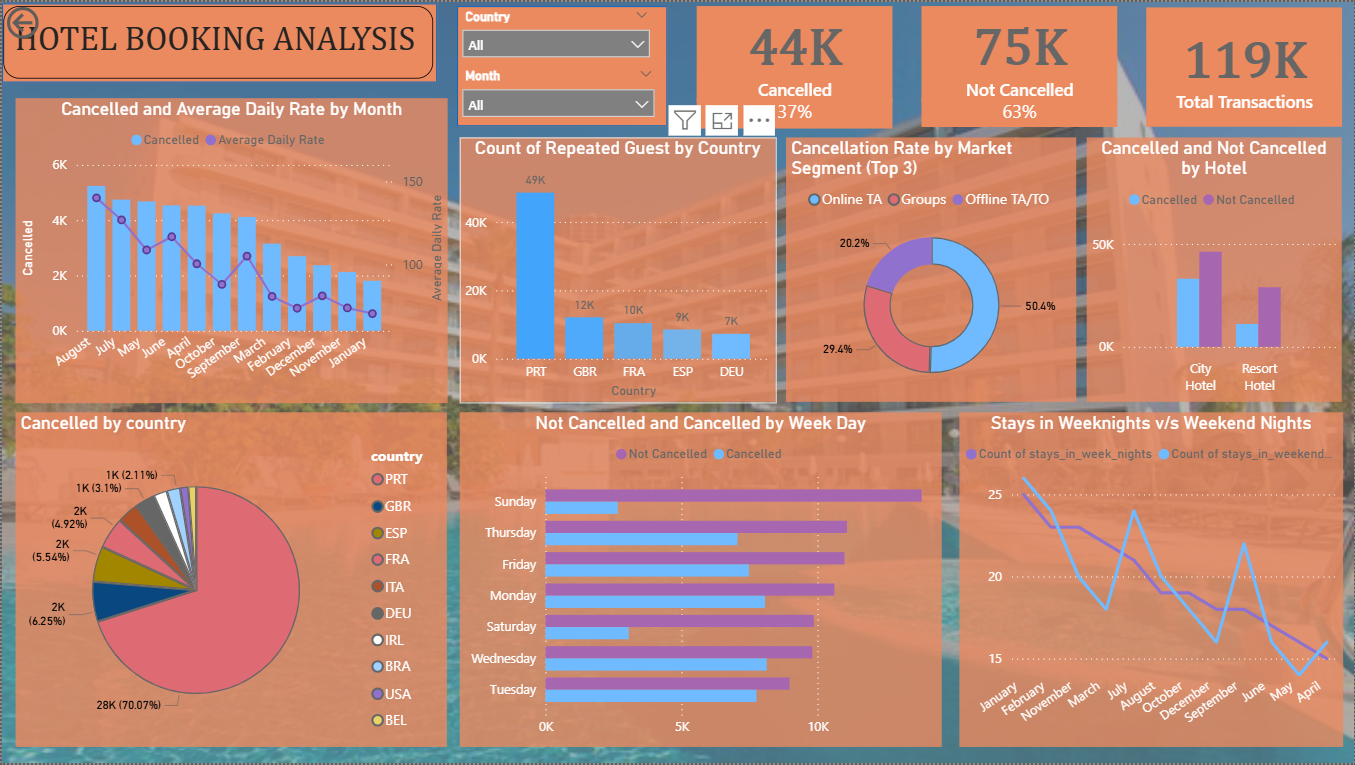

Layout of this report page (visuals, bound fields, positions):
{"tool":"powerbi","page":{"name":"Page 1","canvas":[1280,720],"ordinal":0},"visuals":[{"type":"shape","box":[0,1.4,412,75],"z":0},{"type":"textbox","box":[1.4,4.3,407.1,68.6],"z":1000},{"type":"shape","box":[430.9,4.1,199.2,113.8],"z":2000},{"type":"slicer","fields":{"Values":["hotel_booking.country"]},"box":[425.4,1.4,197.8,58.3],"z":3000},{"type":"slicer","fields":{"Values":["hotel_booking.arrival_date_month"]},"box":[425.4,58.3,201.9,55.5],"z":4000},{"type":"card","fields":{"Values":["All Measures.Cancelled"]},"box":[657.2,4.3,185.7,91.4],"z":5000},{"type":"card","fields":{"Values":["All Measures.Not Cancelled"]},"box":[870,4.3,185.7,91.4],"z":6000},{"type":"card","fields":{"Values":["All Measures.Total Transactions"]},"box":[1082.9,5.7,185.7,112.9],"z":7000},{"type":"card","fields":{"Values":["All Measures.% Cancelled"]},"box":[657.1,90.8,185.6,28.5],"z":8000},{"type":"card","fields":{"Values":["All Measures.% Not Cancelled"]},"box":[870,91.4,185.7,27.1],"z":9000},{"type":"clusteredColumnChart","title":"Cancelled and Not Cancelled by Hotel","fields":{"Category":["hotel_booking.hotel"],"Y":["All Measures.Cancelled","All Measures.Not Cancelled"]},"box":[1027,128.7,241.2,250.7],"z":10000},{"type":"pieChart","fields":{"Category":["hotel_booking.country"],"Y":["All Measures.Cancelled"]},"box":[12.9,388.6,408.6,317.1],"z":11000},{"type":"clusteredBarChart","fields":{"Category":["hotel_booking.Week Day"],"Y":["All Measures.Not Cancelled","All Measures.Cancelled"]},"box":[433.6,388.9,456.6,317],"z":12000},{"type":"lineStackedColumnComboChart","title":"Cancelled and Average Daily Rate  by Month","fields":{"Category":["hotel_booking.arrival_date_month"],"Y":["All Measures.Cancelled"],"Y2":["All Measures.Average Daily Rate "]},"box":[12.2,90.8,409.2,288.6],"z":13000},{"type":"actionButton","box":[0,0,100,40],"z":14000},{"type":"lineChart","title":"Stays in Weeknights v/s Weekend Nights","fields":{"Category":["hotel_booking.arrival_date_month"],"Y":["Count(hotel_booking.stays_in_week_nights)"],"Y2":["Count(hotel_booking.stays_in_weekend_nights)"]},"box":[906.4,388.9,363.1,317],"z":15000},{"type":"columnChart","title":"Count of Repeated Guest by Country","fields":{"Category":["hotel_booking.country"],"Y":["CountNonNull(hotel_booking.is_repeated_guest)"]},"box":[433.6,128.7,299.4,250.7],"z":16000},{"type":"donutChart","title":"Cancellation Rate by Market Segment (Top 3)","fields":{"Category":["hotel_booking.market_segment"],"Y":["All Measures.Cancellation Count"]},"box":[742.5,128.7,275,250.7],"z":16001}]}

Visuals, with their boxes in screenshot pixels (x1, y1, x2, y2), scaled from the page's 1280x720 canvas onto the 1355x765 screenshot:
shape: [0,1,436,81]
textbox: [1,5,432,77]
shape: [456,4,667,125]
slicer - hotel_booking.country: [450,1,660,63]
slicer - hotel_booking.arrival_date_month: [450,62,664,121]
card - All Measures.Cancelled: [696,5,892,102]
card - All Measures.Not Cancelled: [921,5,1118,102]
card - All Measures.Total Transactions: [1146,6,1343,126]
card - All Measures.% Cancelled: [696,96,892,127]
card - All Measures.% Not Cancelled: [921,97,1118,126]
"Cancelled and Not Cancelled by Hotel" clusteredColumnChart: [1087,137,1343,403]
pieChart - hotel_booking.country x All Measures.Cancelled: [14,413,446,750]
clusteredBarChart - hotel_booking.Week Day x All Measures.Not Cancelled: [459,413,942,750]
"Cancelled and Average Daily Rate  by Month" lineStackedColumnComboChart: [13,96,446,403]
actionButton: [0,0,106,42]
"Stays in Weeknights v/s Weekend Nights" lineChart: [960,413,1344,750]
"Count of Repeated Guest by Country" columnChart: [459,137,776,403]
"Cancellation Rate by Market Segment (Top 3)" donutChart: [786,137,1077,403]
